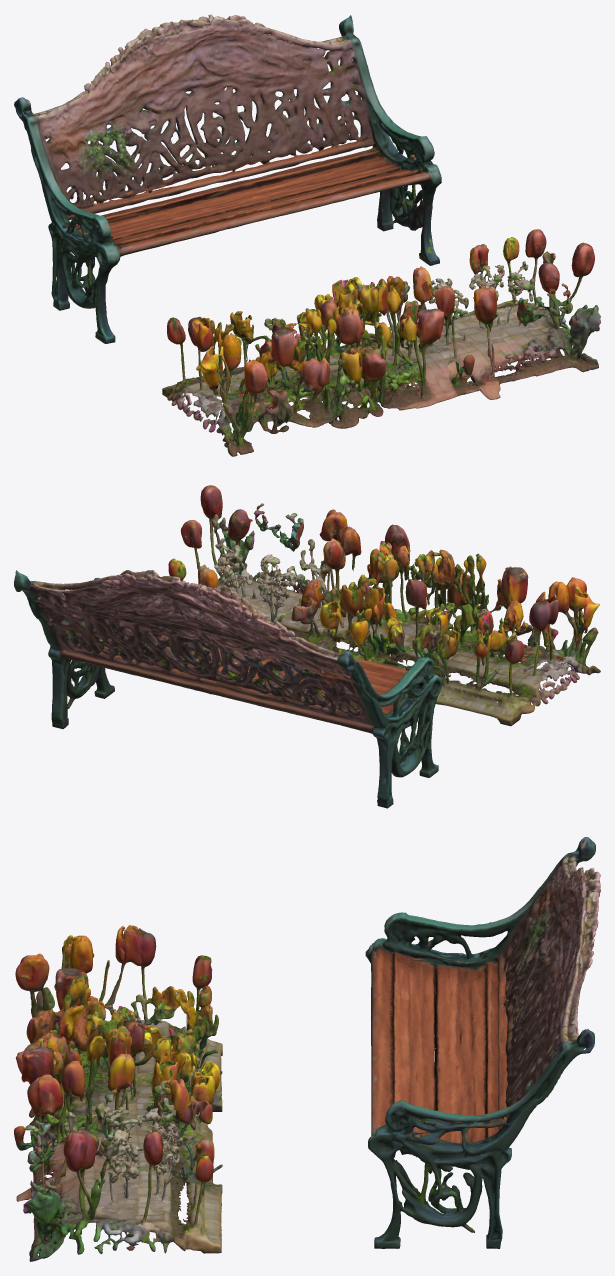
Rendered from bench_flowers.glb.
The picture shows the model from 3 angles, top to bottom: view 1: azimuth 30°, elevation 25°; view 2: azimuth 150°, elevation 25°; view 3: azimuth 270°, elevation 25°; orthographic projection. The views are drawn at different scales.
Bounding box in the file's own units: 1.86 × 0.9962 × 2.
1 material, 1 textured.
